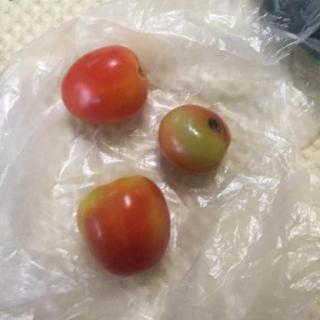Tomat: (59, 168, 188, 283), (55, 46, 151, 125), (150, 90, 237, 177)
